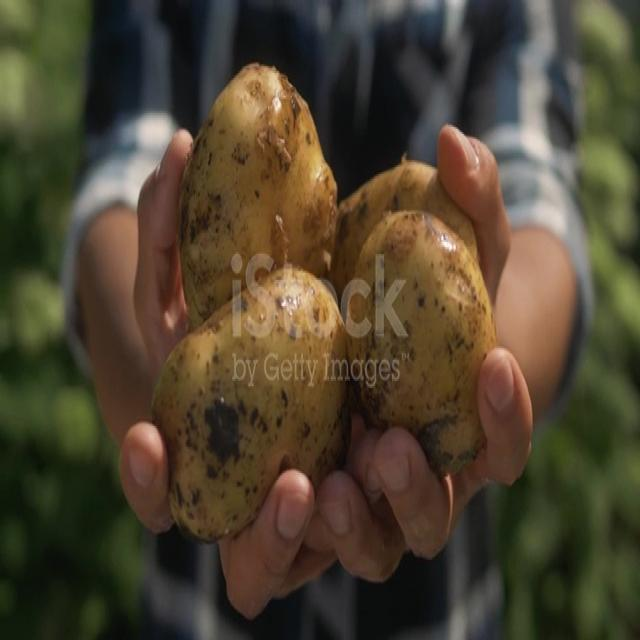potato: (152, 265, 351, 540), (180, 63, 338, 329), (341, 211, 496, 475), (331, 157, 478, 295)
